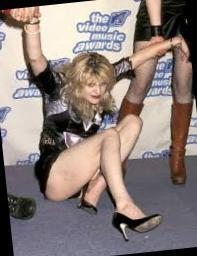Drunk: (80, 70, 108, 104)
